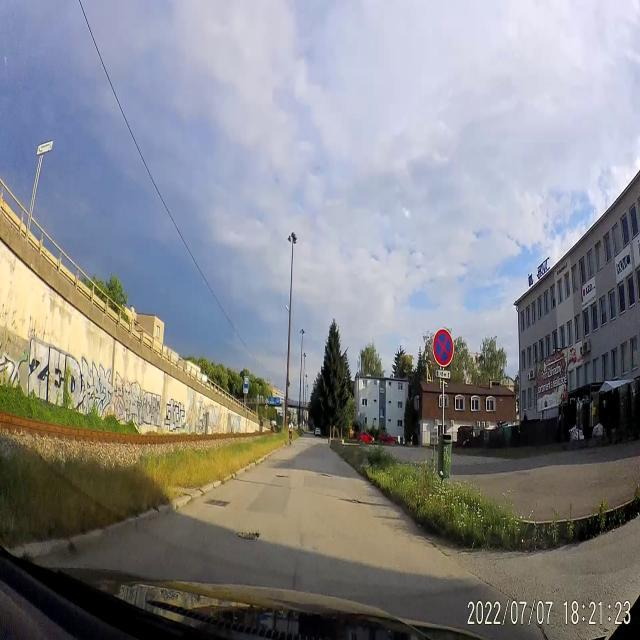Manhole: (204, 496, 232, 511)
Pothole: (235, 525, 264, 545), (321, 469, 334, 482), (275, 472, 290, 480)
